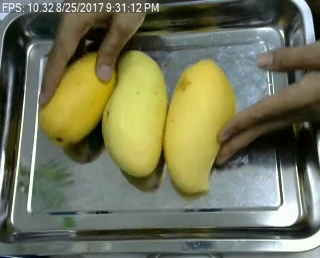Mango: (164, 59, 235, 191), (102, 49, 166, 176), (39, 49, 115, 144)
